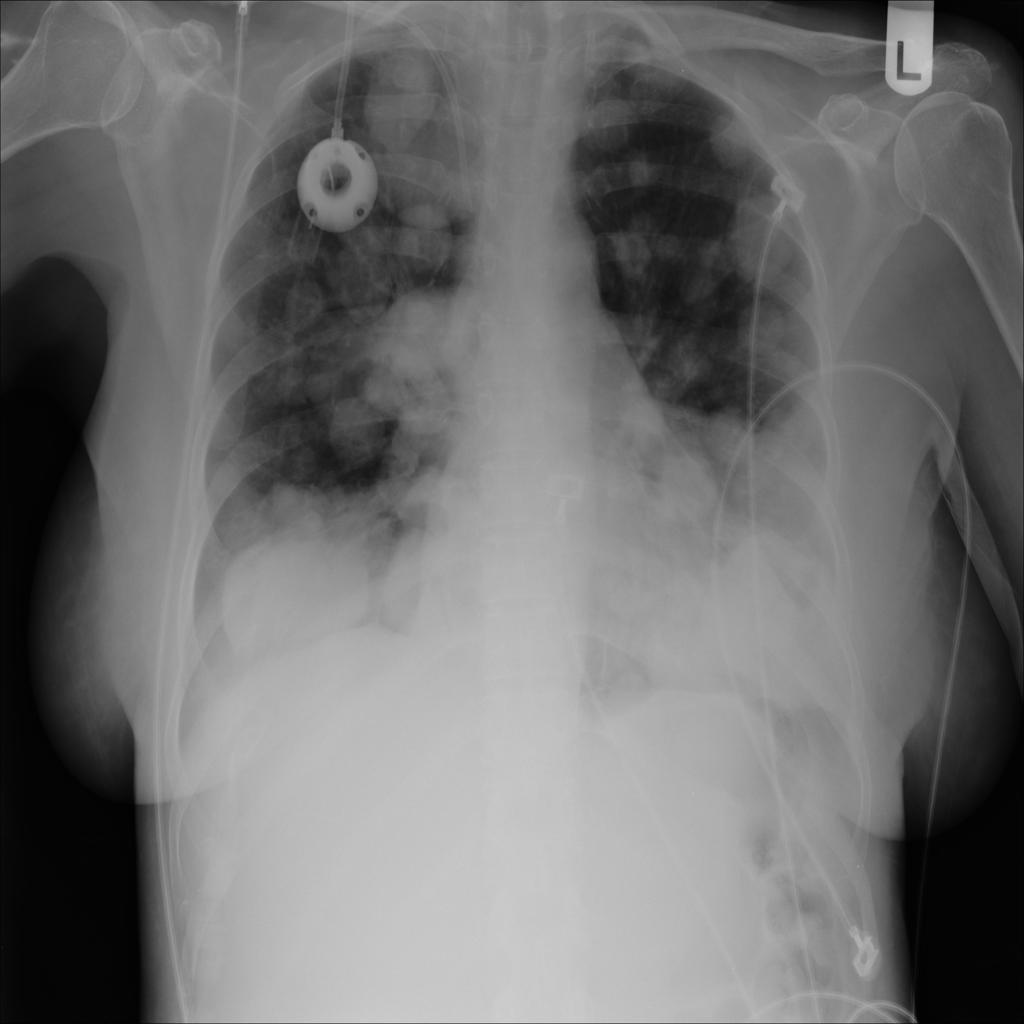nodule: (217, 519, 395, 671), (698, 514, 827, 696), (349, 40, 455, 161), (713, 170, 814, 290), (650, 439, 723, 530), (321, 389, 393, 472), (261, 475, 344, 544), (572, 82, 646, 159), (694, 99, 769, 174), (697, 395, 765, 476), (591, 554, 661, 631), (611, 384, 679, 462), (731, 294, 800, 368), (270, 266, 336, 342), (392, 189, 457, 266), (601, 214, 667, 288), (656, 320, 718, 396), (618, 143, 670, 196)
